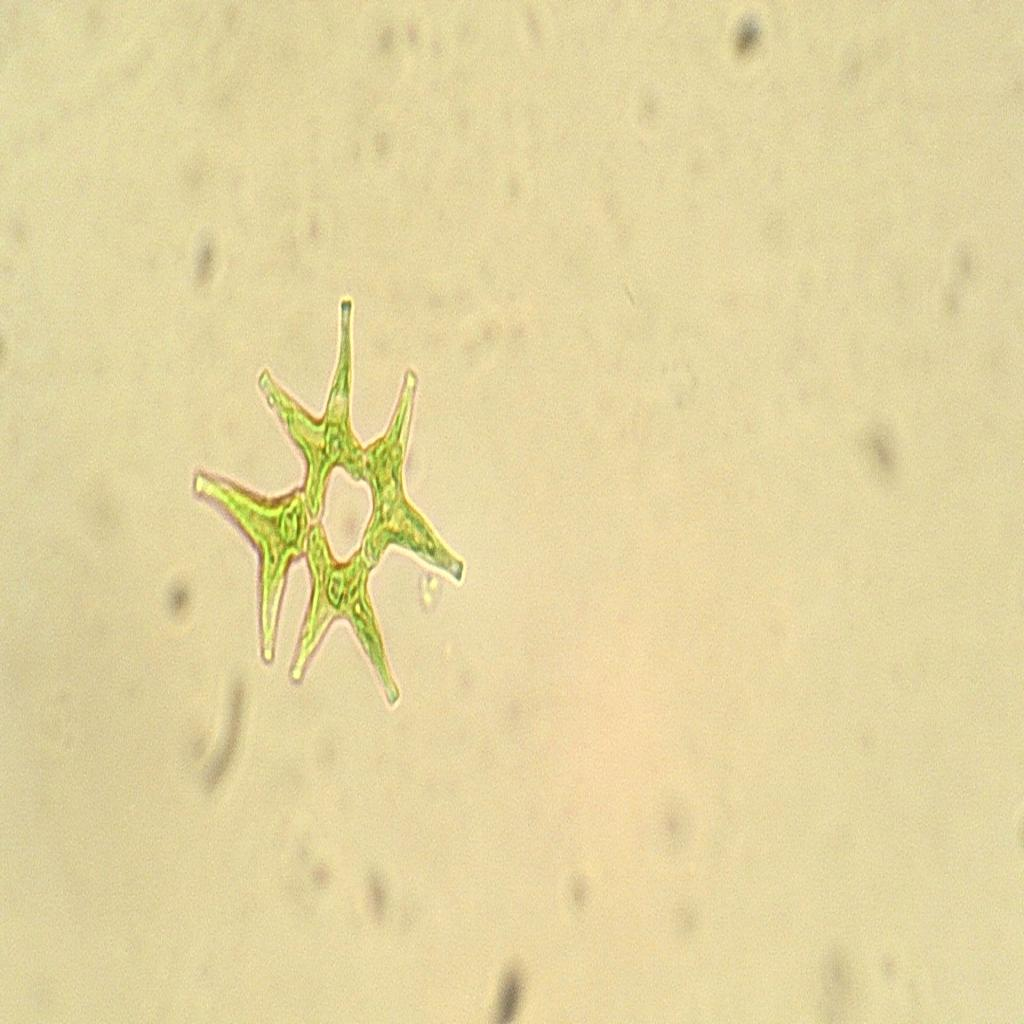Pediastrum_75FI: (182, 295, 489, 712)
